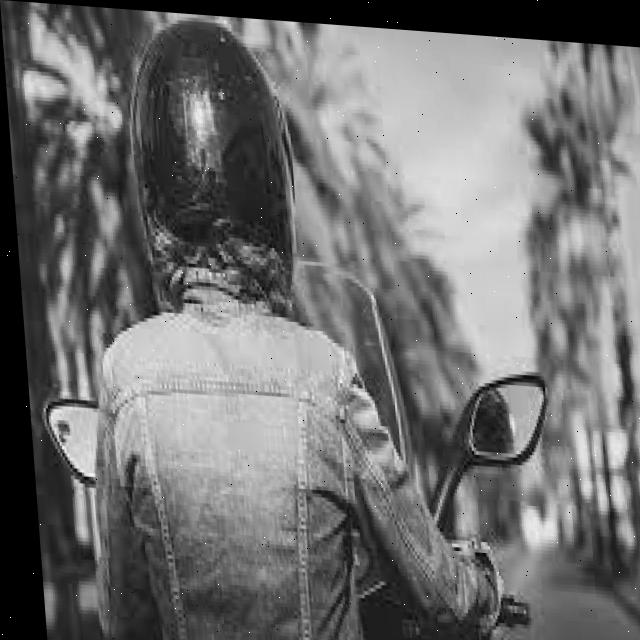Helmet: (120, 11, 299, 299)
